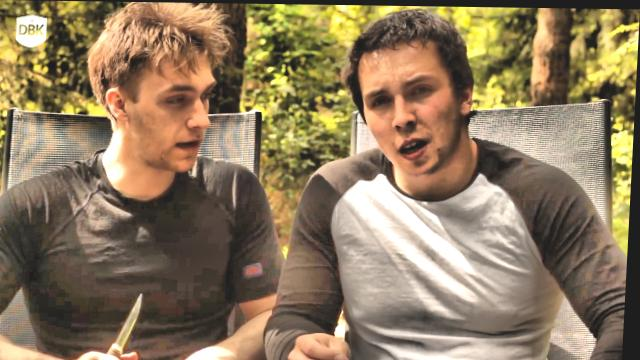knife: (87, 286, 161, 360)
